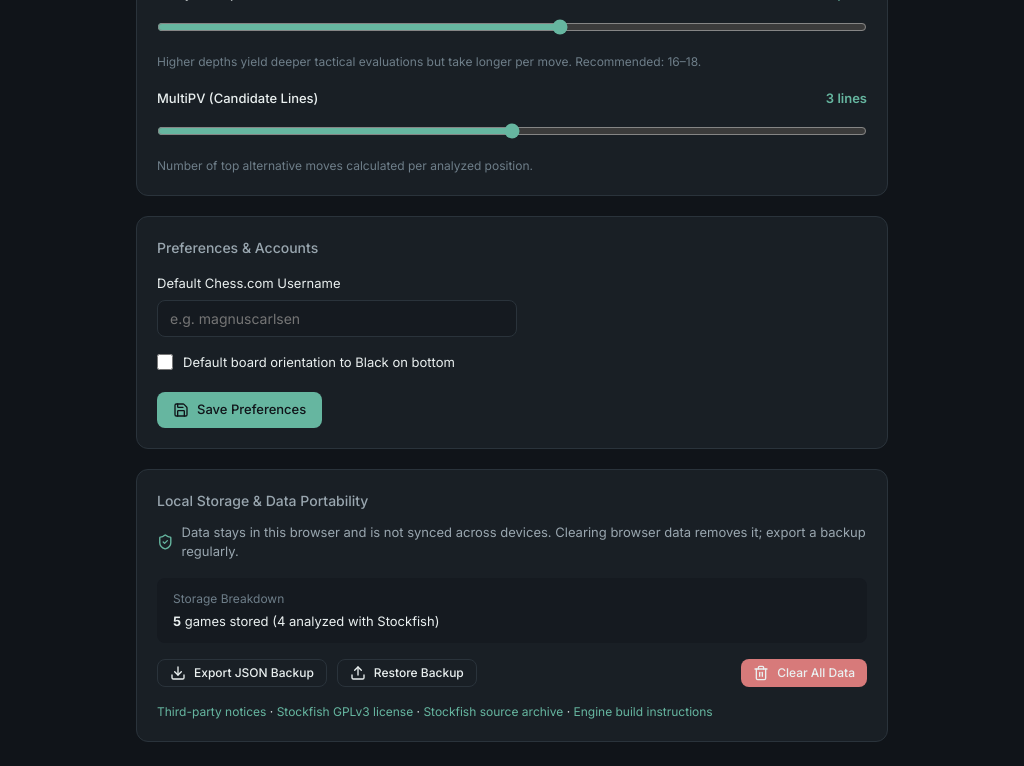
Test: Settings recovery and operation safety › blocks repeated exports and conflicting controls while a backup is being prepared
(page scrolled)
Click the button "Export JSON Backup" at (242,673), box [157, 659, 327, 687]
(page scrolled)
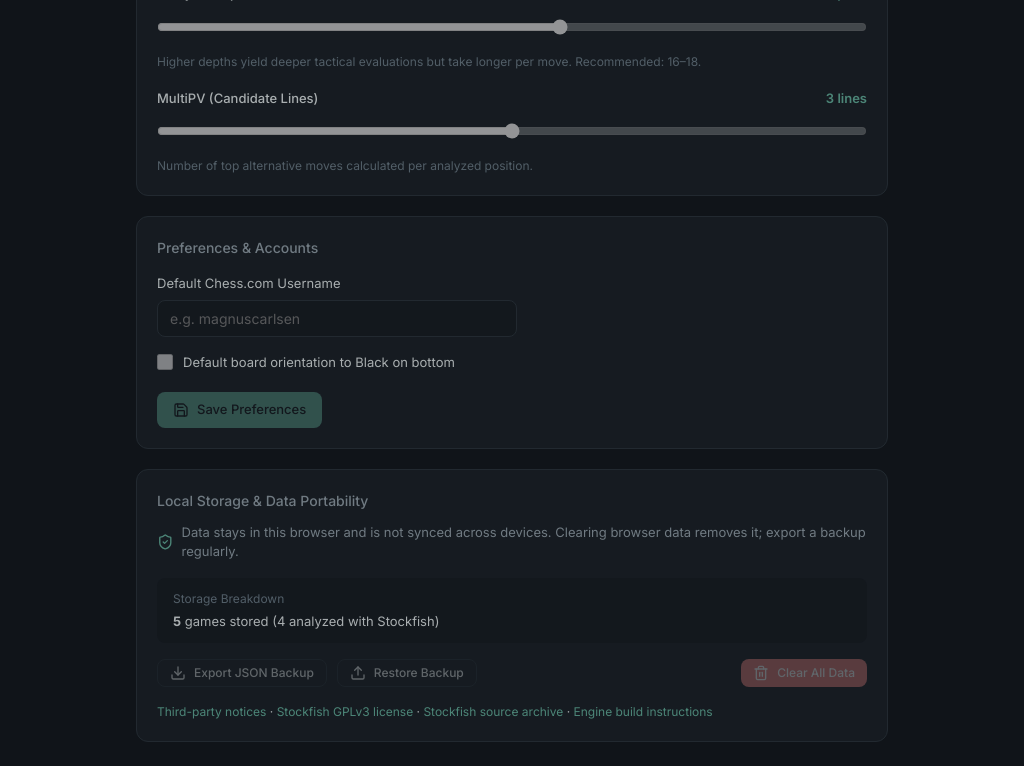
Click the button "Export JSON Backup" at (242,673), box [157, 659, 327, 687]
(page scrolled)
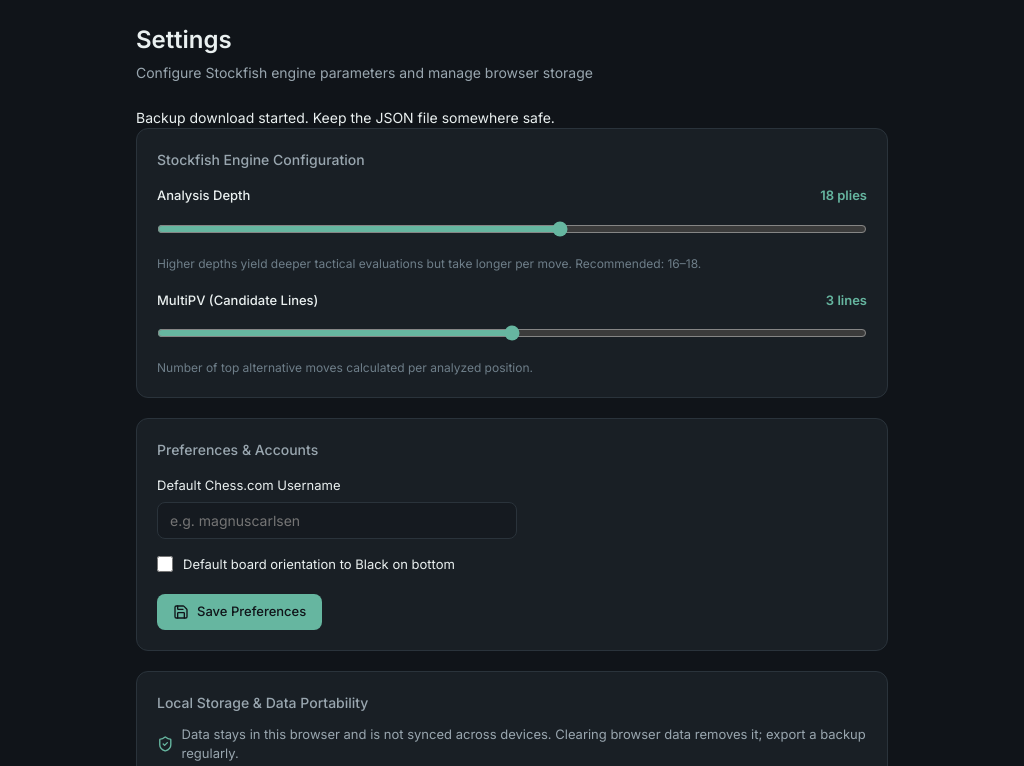
Now the text "Backup download started. Keep the JSON file somewhere safe." is shown, box [136, 109, 555, 126]
